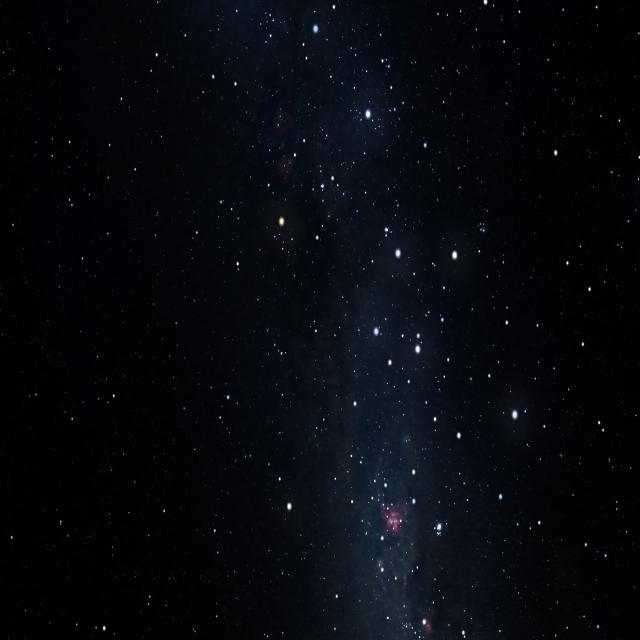Vela: (212, 94, 413, 530)
